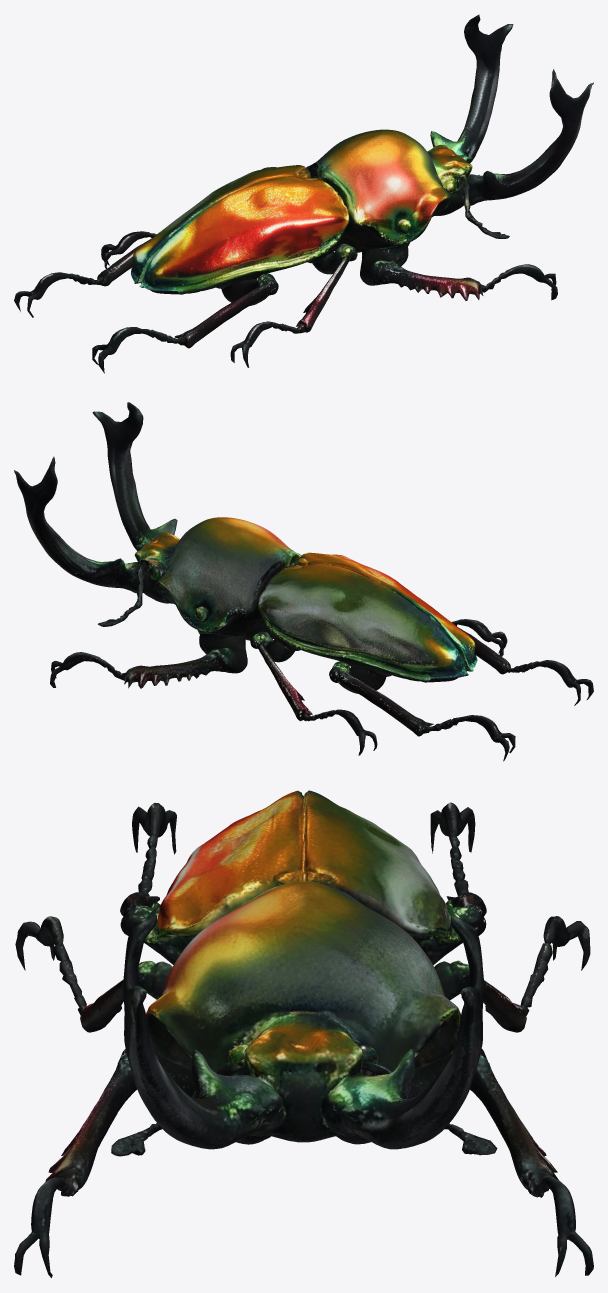
The picture shows the model from 3 angles, top to bottom: view 1: azimuth 30°, elevation 25°; view 2: azimuth 150°, elevation 25°; view 3: azimuth 270°, elevation 25°; orthographic projection. The views are drawn at different scales.
Visible parts, largest first — view 1: tripo_node_df4c1512-6f3c-410f-9efb-af2792503317; view 2: tripo_node_df4c1512-6f3c-410f-9efb-af2792503317; view 3: tripo_node_df4c1512-6f3c-410f-9efb-af2792503317.
Part boxes in pixels (<box>): tripo_node_df4c1512-6f3c-410f-9efb-af2792503317: <box>14,14,593,373</box>; tripo_node_df4c1512-6f3c-410f-9efb-af2792503317: <box>14,402,593,761</box>; tripo_node_df4c1512-6f3c-410f-9efb-af2792503317: <box>14,790,593,1277</box>.
Size of the model in its own units: 0.9825 by 0.3743 by 0.4968.
1 material, 1 textured.
